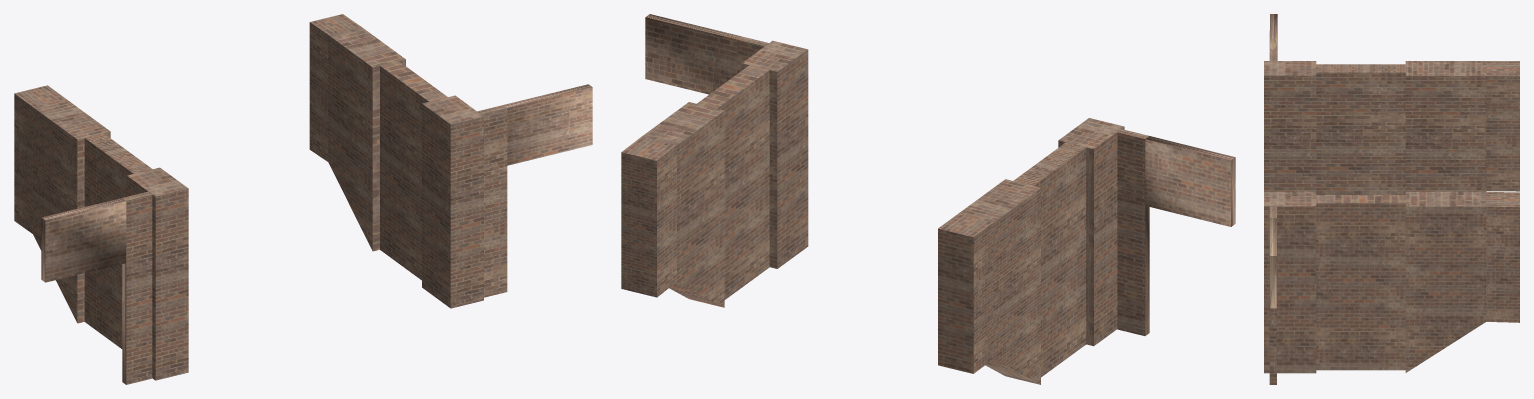
Rendered from Pared de abajo2.0.fbx.
3 renders of one model, left to right at view 1: azimuth 30°, elevation 25°; view 2: azimuth 150°, elevation 25°; view 3: azimuth 270°, elevation 25°, orthographic. The views are drawn at different scales.
Parts seen in each view (by area): view 1: Cube.182; view 2: Cube.182; view 3: Cube.182.
Part boxes in pixels (left/top/right/bottom): Cube.182: left=14, top=14, right=592, bottom=384; Cube.182: left=621, top=14, right=1235, bottom=384; Cube.182: left=1264, top=14, right=1519, bottom=384.
Size of the model in its own units: 1151 by 370 by 515.
